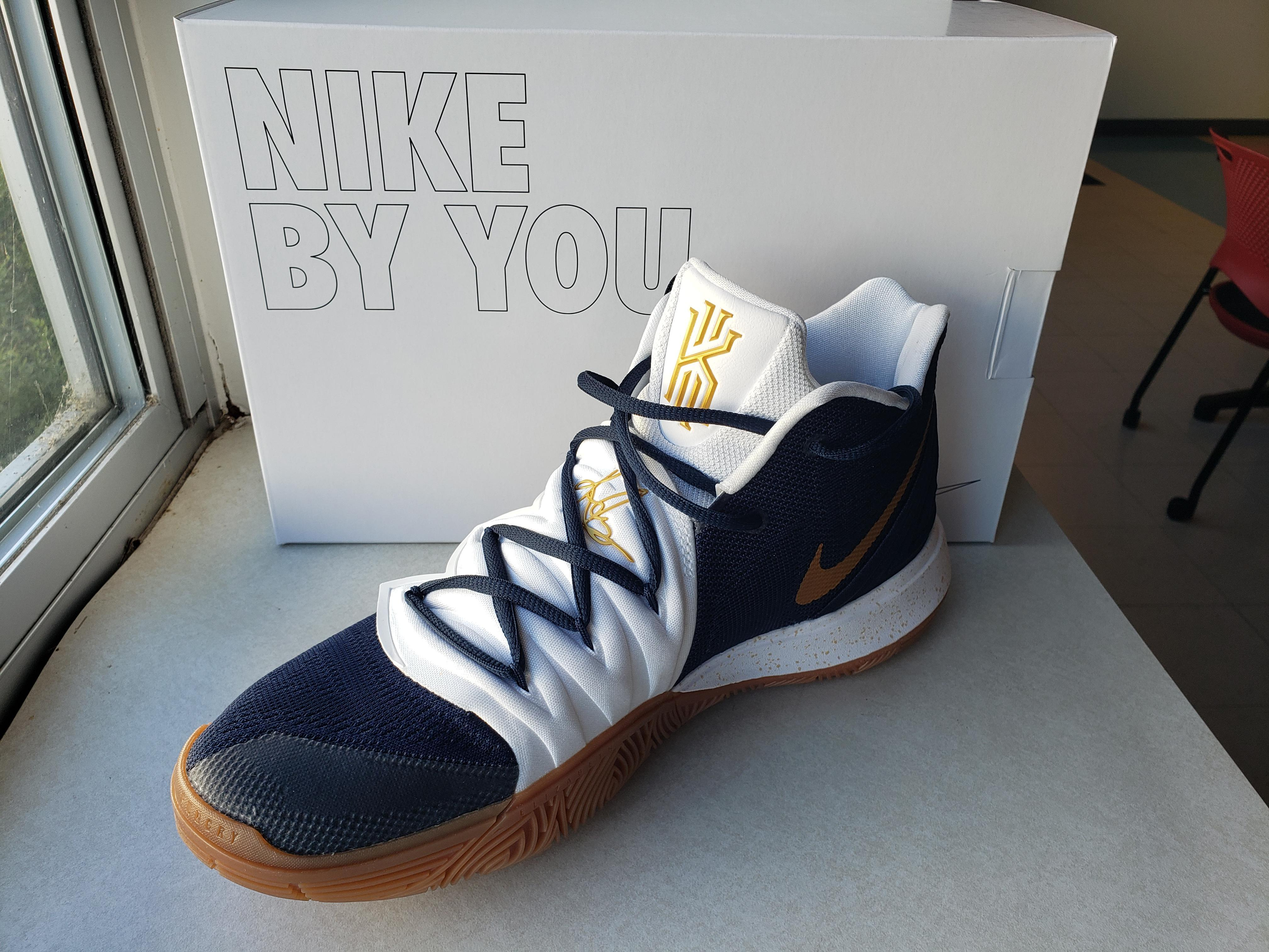sneaker: (167, 255, 952, 905)
